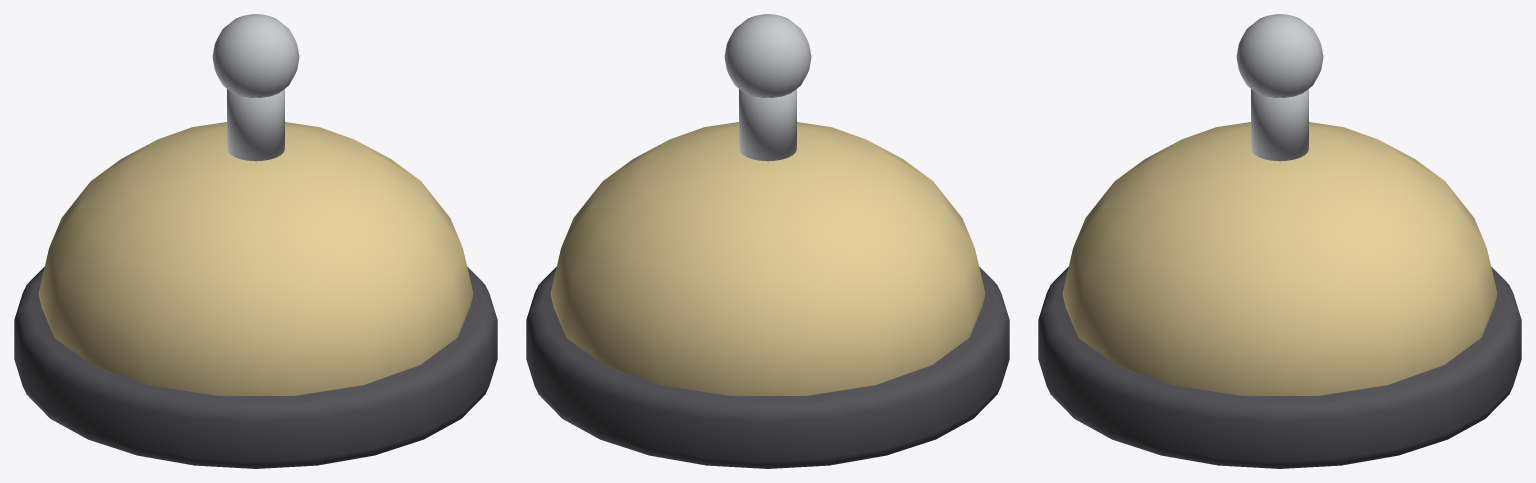
File: desk_bell.fbx
The picture shows the model from 3 angles, left to right: view 1: azimuth 30°, elevation 25°; view 2: azimuth 150°, elevation 25°; view 3: azimuth 270°, elevation 25°; orthographic projection.
Parts seen in each view (by area): view 1: desk_bell; view 2: desk_bell; view 3: desk_bell.
Boxes of the visible parts, x1,y1,x2,y2 form: desk_bell: (14, 14, 497, 468); desk_bell: (526, 14, 1009, 468); desk_bell: (1038, 14, 1521, 468).
Bounding box in the file's own units: 0.1 × 0.0968 × 0.1.
